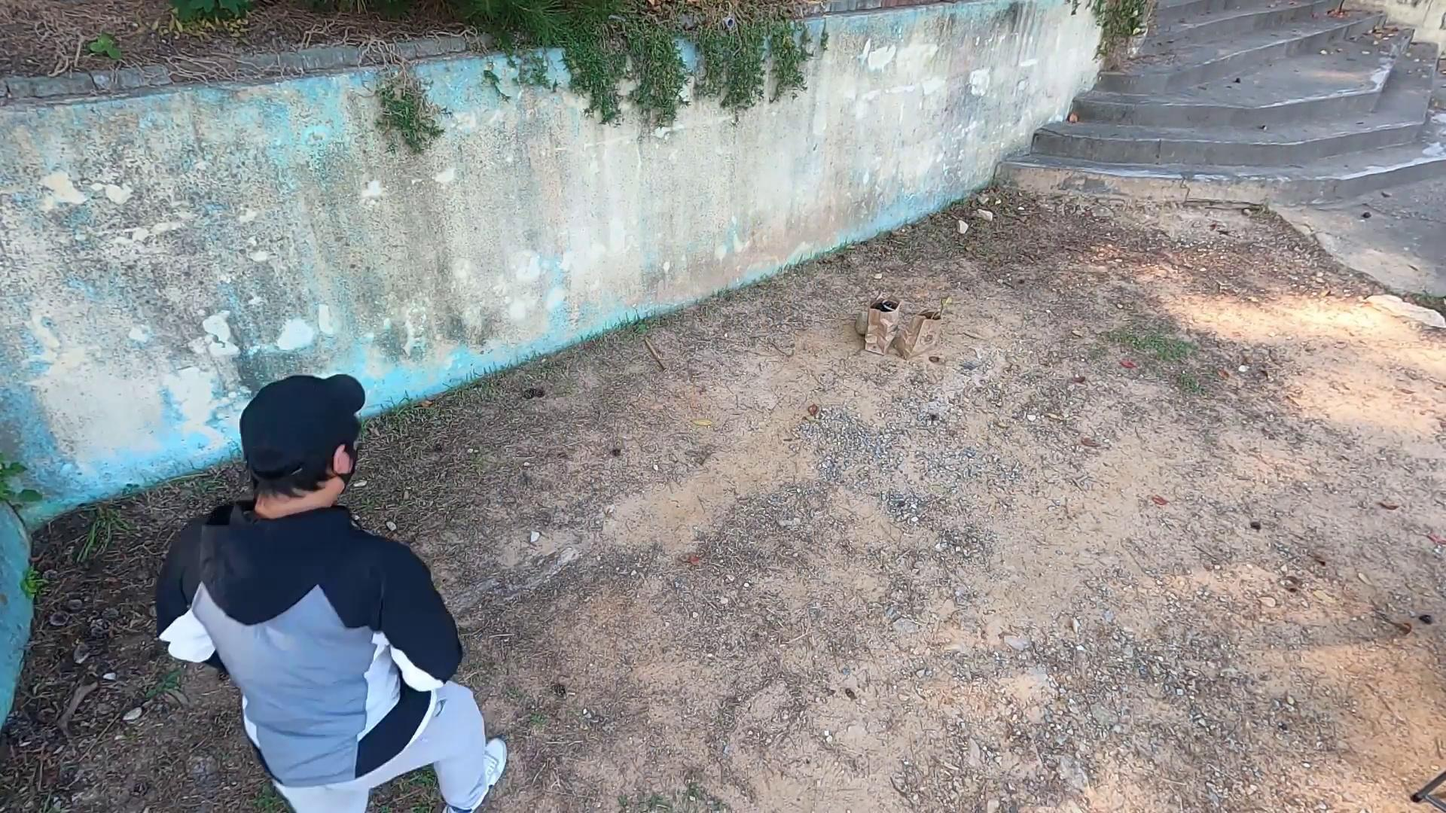person: (148, 366, 525, 813)
trash: (861, 289, 909, 360), (908, 301, 948, 359)
